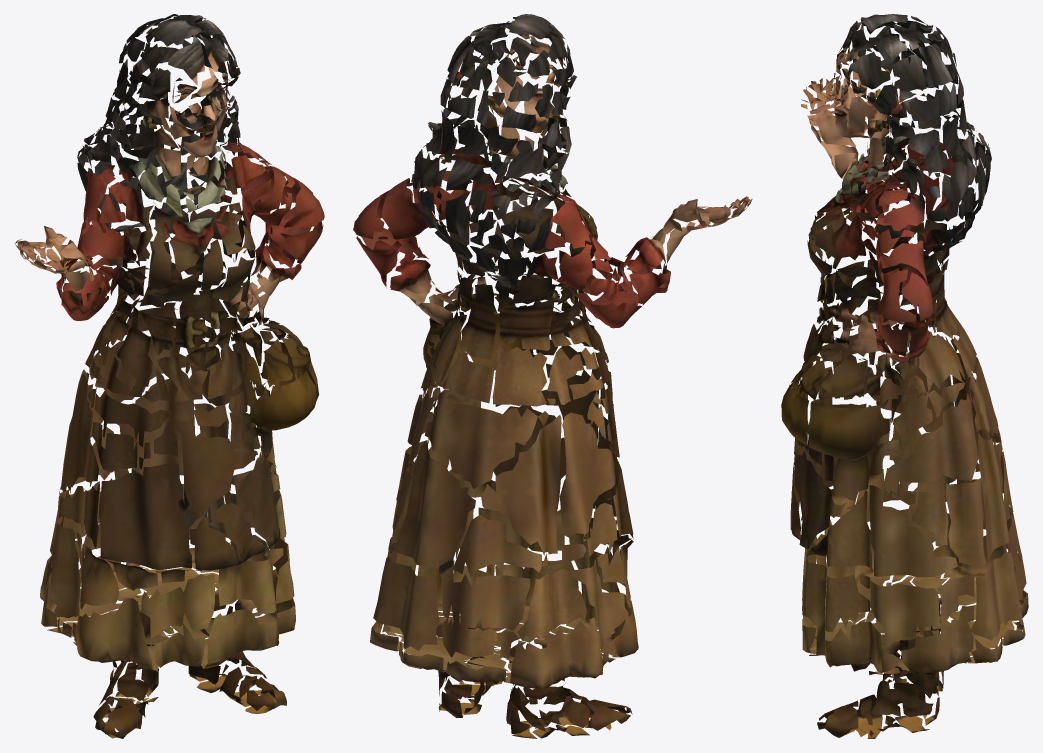
The model's file is townswoman_opt.glb.
The picture shows the model from 3 angles, left to right: view 1: azimuth 30°, elevation 25°; view 2: azimuth 150°, elevation 25°; view 3: azimuth 270°, elevation 25°; orthographic projection.
Parts seen in each view (by area): view 1: townswoman_opt; view 2: townswoman_opt; view 3: townswoman_opt.
Boxes of the visible parts, box(x1,y1,x2,y2) form: townswoman_opt: box(14, 14, 324, 738); townswoman_opt: box(353, 14, 752, 738); townswoman_opt: box(781, 14, 1028, 738).
Bounding box in the file's own units: 1 × 1.9 × 0.6236.
Materials: 1 (1 with a texture image).
